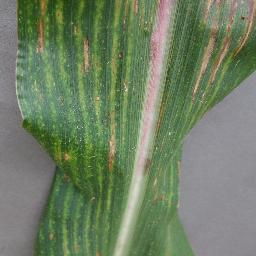Gray_Leaf_Spot: (191, 0, 256, 105), (148, 0, 175, 77), (140, 78, 167, 132), (104, 108, 121, 173), (118, 0, 149, 32), (53, 148, 77, 187), (135, 132, 154, 181), (35, 0, 49, 55), (78, 34, 94, 73), (118, 80, 134, 95), (153, 193, 169, 206), (54, 9, 63, 24), (47, 231, 59, 242), (90, 94, 103, 102), (116, 51, 125, 61), (92, 249, 103, 256)
